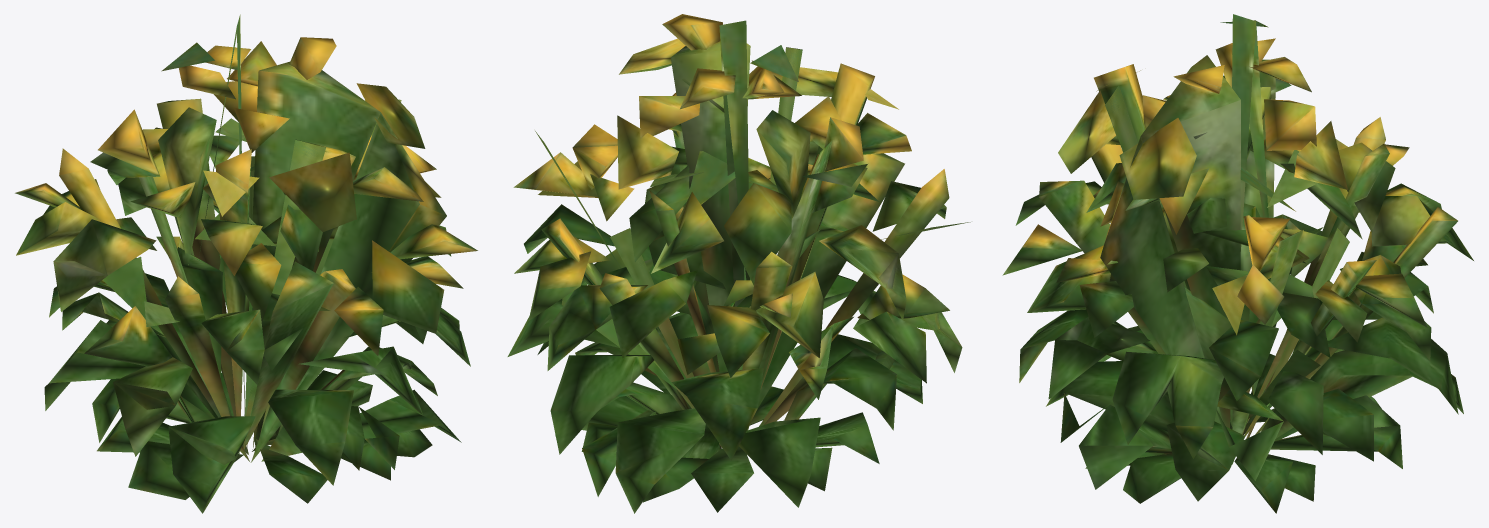
Rendered from rl_isle_sunleaf.glb.
3 views of the same model, side by side, from view 1: azimuth 30°, elevation 25°; view 2: azimuth 150°, elevation 25°; view 3: azimuth 270°, elevation 25° (orthographic).
Visible parts, largest first — view 1: kit-flower-shrub-2; view 2: kit-flower-shrub-2; view 3: kit-flower-shrub-2.
Boxes of the visible parts, box(x1,y1,x2,y2) form: kit-flower-shrub-2: box(15, 14, 477, 513); kit-flower-shrub-2: box(507, 14, 970, 513); kit-flower-shrub-2: box(1002, 14, 1473, 513).
Bounding box in the file's own units: 0.622 × 0.65 × 0.6398.
Materials: 1 (1 with a texture image).
